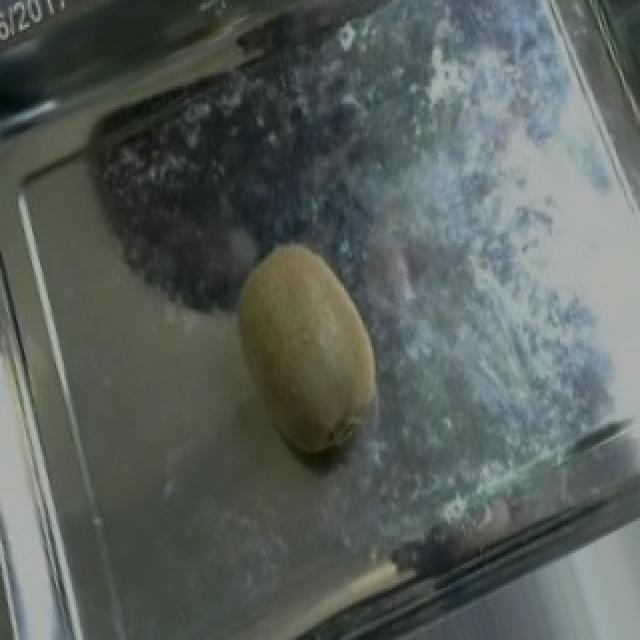Fruit: (200, 221, 414, 494)
